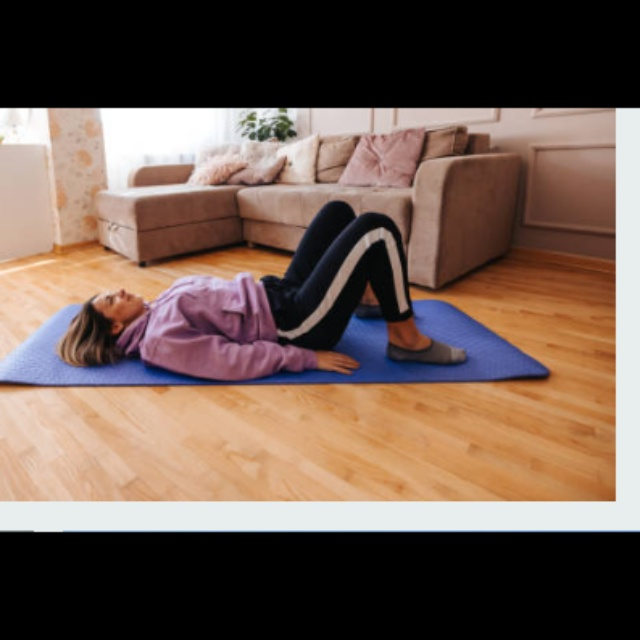Bridge_Pose: (52, 196, 471, 383)
